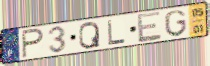3: (47, 25, 68, 55)
E: (136, 10, 163, 44)
G: (163, 9, 188, 38)
L: (106, 18, 127, 46)
P: (21, 28, 46, 60)
Q: (78, 20, 102, 51)
